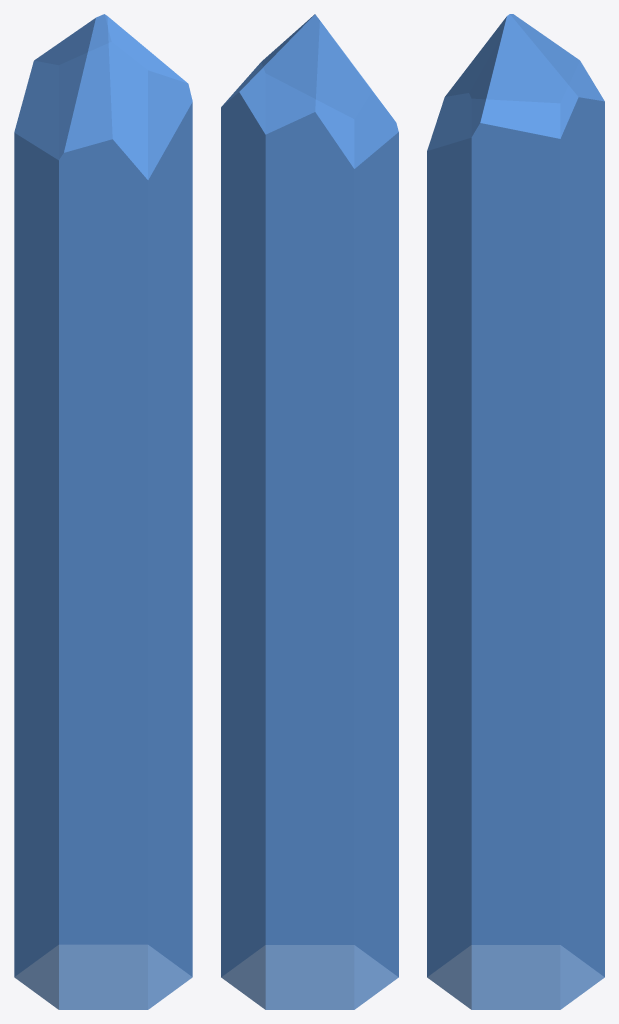
Rendered from Crystal_m_10.fbx.
3 renders of one model, left to right at view 1: azimuth 30°, elevation 25°; view 2: azimuth 150°, elevation 25°; view 3: azimuth 270°, elevation 25°, orthographic.
Visible parts, largest first — view 1: Crystal_m_10; view 2: Crystal_m_10; view 3: Crystal_m_10.
Part boxes in pixels (x1=…): Crystal_m_10: x1=14, y1=14, x2=192, y2=1009; Crystal_m_10: x1=221, y1=14, x2=398, y2=1009; Crystal_m_10: x1=427, y1=14, x2=604, y2=1009.
Bounding box in the file's own units: 37.83 × 261 × 43.68.
